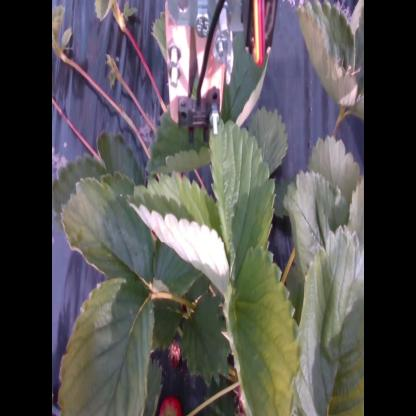ripe: (168, 340, 183, 372), (158, 399, 184, 416)
